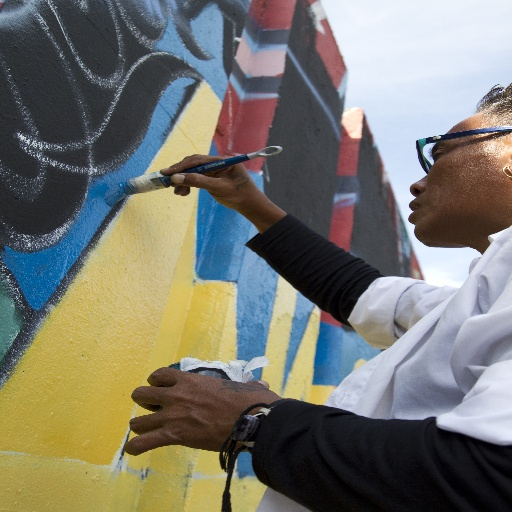hand: (131, 364, 270, 468), (158, 152, 263, 209)
